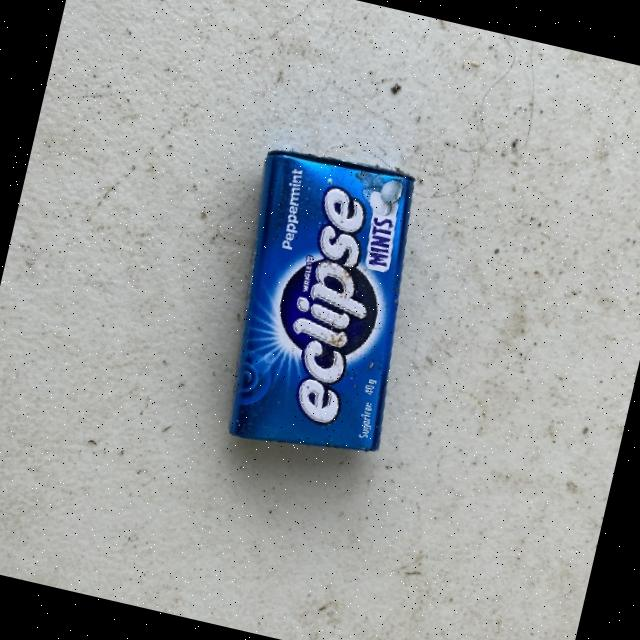metal: (201, 140, 440, 468)
